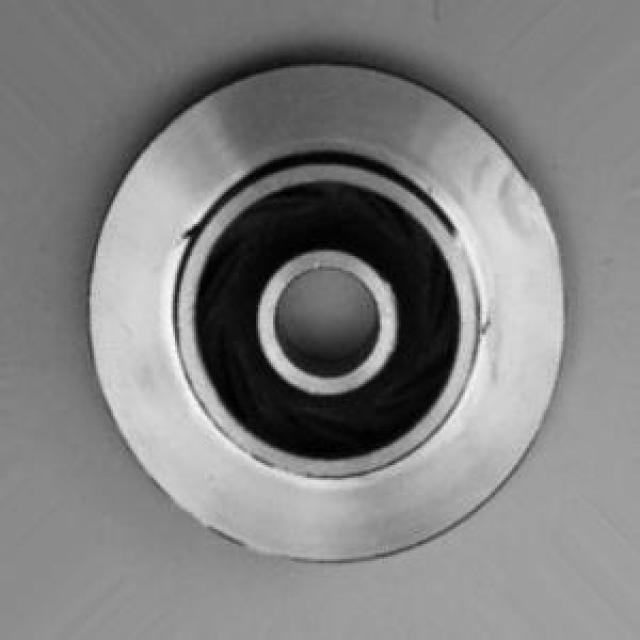Defect: (170, 223, 212, 243)
